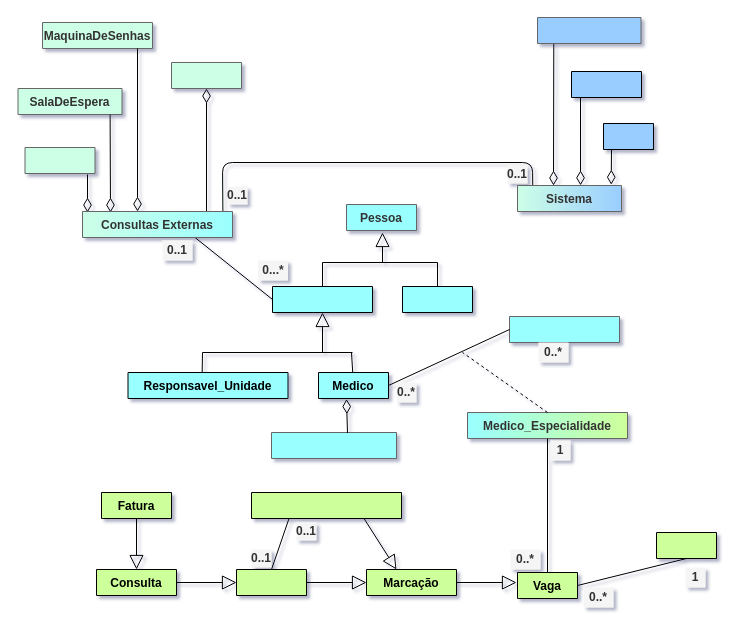
Image size: 740x631. Some labels were removed from this diagram. The shapes that lost their labels are listed below. From the top down, each one's centre as x and y in pixels, then its label:
At [588,30]: "BaseDeDados".
At [206,75]: "Hospital".
At [606,84]: "Server".
At [628,136]: "GUI".
At [59,160]: "Balcao".
At [322,299]: "Funcionario".
At [437,299]: "Utente".
At [564,329]: "Especialidade".
At [333,445]: "ListaDeEspera".
At [326,505]: "MarcaçãoCancelada".
At [686,545]: "Date".
At [271,582]: "Senha".
